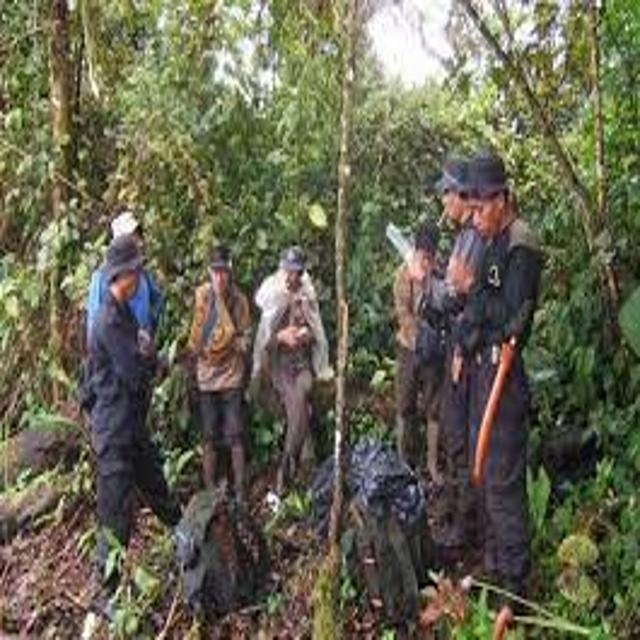poacher: (221, 212, 353, 536), (166, 222, 289, 521), (359, 191, 473, 507)
ranger: (38, 191, 244, 602), (426, 134, 572, 633), (386, 133, 507, 589)
